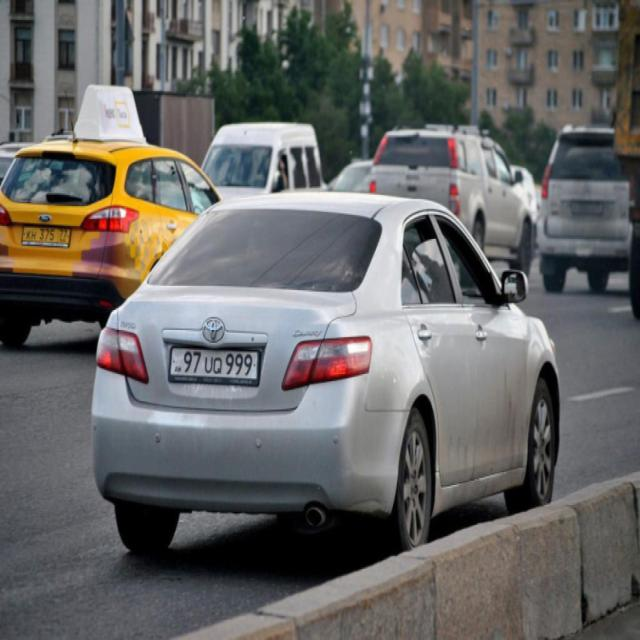number-plates: (167, 347, 260, 387), (21, 224, 71, 251)
